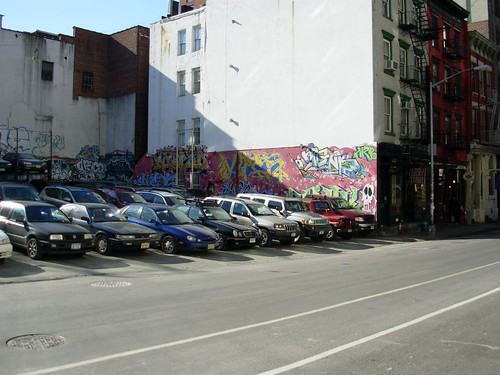building: (145, 1, 425, 230), (1, 21, 147, 150), (430, 1, 471, 229), (472, 34, 500, 233)
car: (1, 198, 94, 258), (65, 201, 155, 260), (134, 205, 220, 254), (222, 193, 299, 246), (265, 194, 328, 240), (192, 201, 253, 248), (291, 197, 354, 239), (328, 195, 371, 232)
graffiti: (204, 143, 291, 188), (290, 141, 375, 185), (143, 143, 226, 187)
street: (5, 239, 488, 375)
